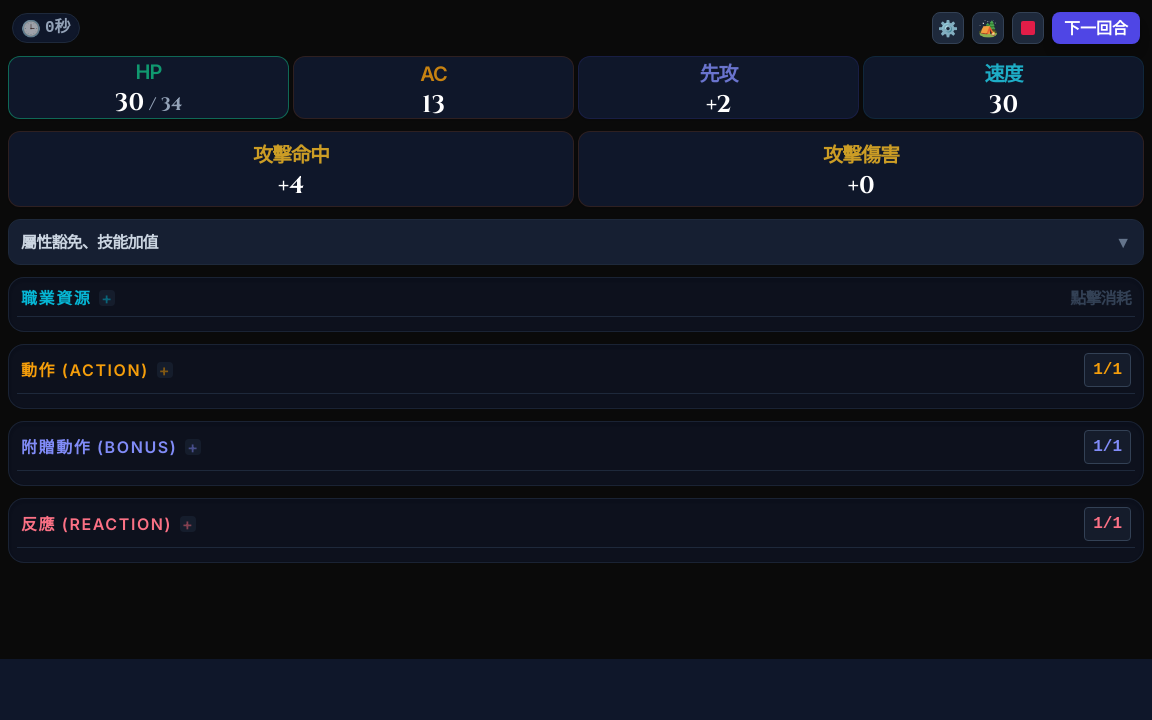
Test: CombatView - 戰鬥屬性加值來源明細（問題9重構） › 攻擊命中彈窗：加值來源應包含 statBonusSources 明細（非零才顯示）
Click the text "攻擊命中".
click(291, 155)  # box [253,140,329,170]
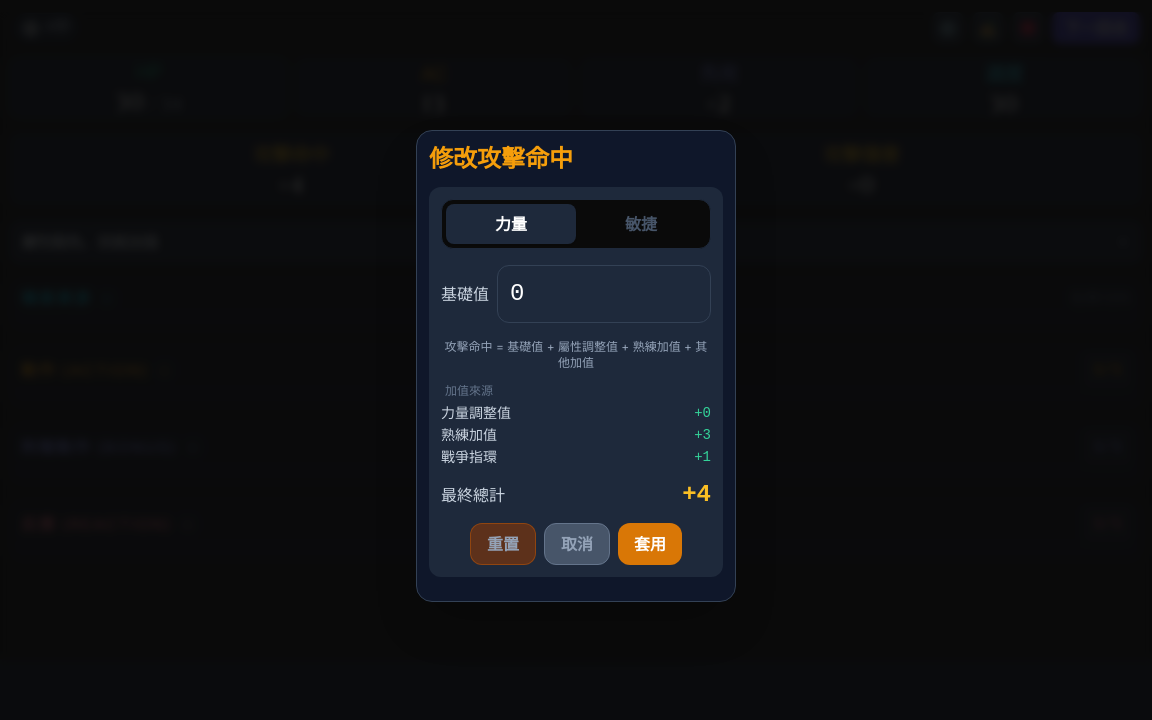
Result: the text "戰爭指環" is shown at [441,447,497,467]
